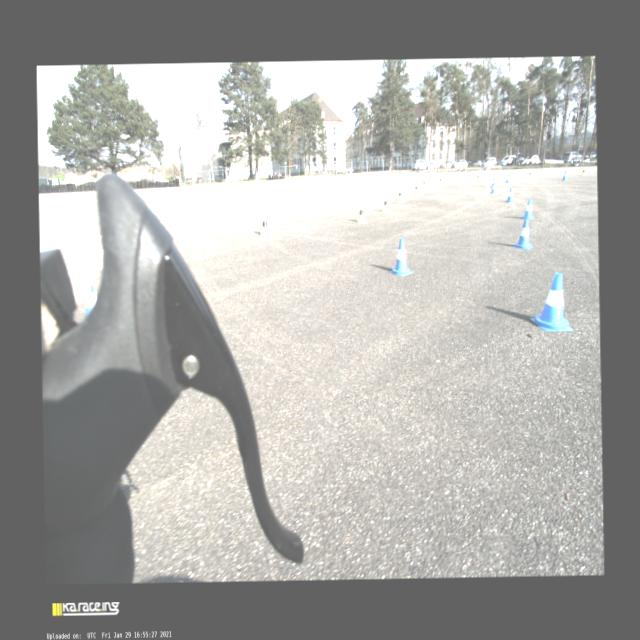blue_cone: (528, 273, 572, 331), (388, 238, 412, 276), (512, 219, 532, 250), (522, 198, 534, 219), (505, 188, 515, 202), (489, 182, 496, 193), (489, 177, 495, 188), (562, 170, 568, 180), (505, 174, 510, 183)
yellow_cone: (260, 214, 271, 236), (356, 203, 366, 223), (381, 196, 390, 212), (397, 188, 404, 201), (413, 184, 420, 195), (580, 168, 586, 175), (437, 177, 443, 184), (527, 170, 532, 178), (422, 178, 426, 188), (476, 172, 480, 181)
